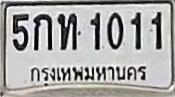0: (106, 12, 122, 48)
1: (150, 10, 162, 48), (89, 12, 100, 48), (130, 10, 140, 48)
5: (12, 13, 28, 50)
A01: (33, 12, 52, 50)
A23: (57, 12, 77, 49)
BKK: (28, 62, 149, 85)
